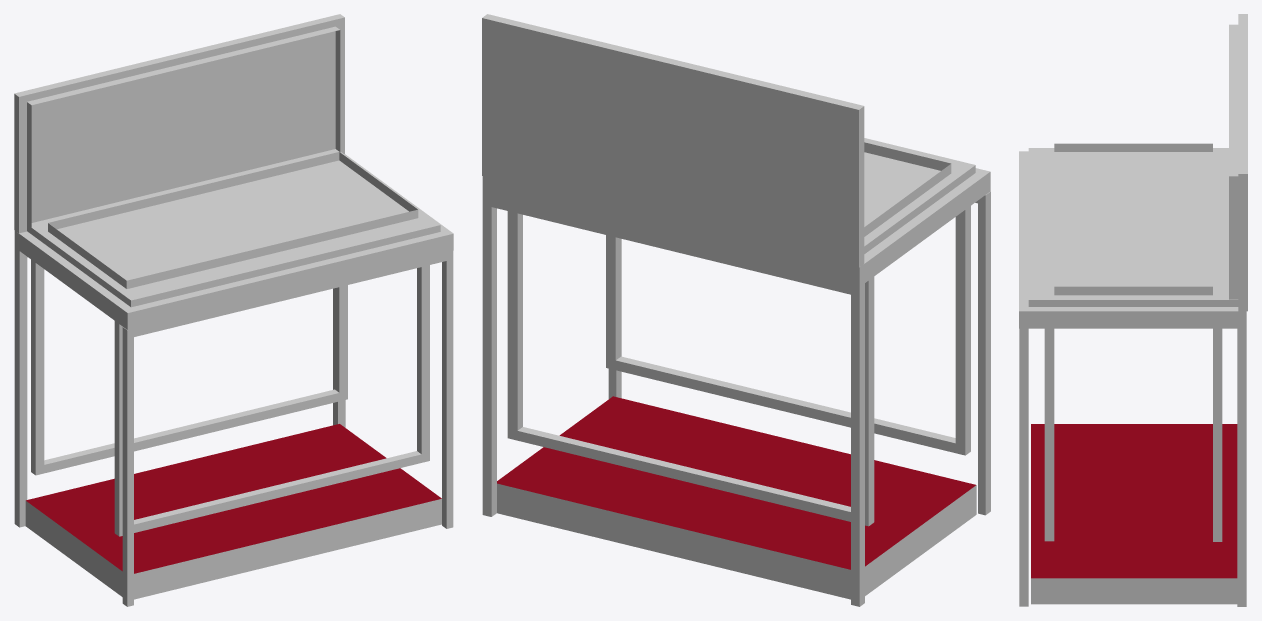
The model's file is Counter_8_Exhibition_Table_Rectangle032_1.FBX.
3 renders of one model, left to right at view 1: azimuth 30°, elevation 25°; view 2: azimuth 150°, elevation 25°; view 3: azimuth 270°, elevation 25°, orthographic. The views are drawn at different scales.
Parts seen in each view (by area): view 1: Counter_8_Exhibition_Table_Rectangle032_1; view 2: Counter_8_Exhibition_Table_Rectangle032_1; view 3: Counter_8_Exhibition_Table_Rectangle032_1.
Part boxes in pixels (x1,y1,x2,y2): Counter_8_Exhibition_Table_Rectangle032_1: (14, 14, 453, 606); Counter_8_Exhibition_Table_Rectangle032_1: (482, 14, 990, 606); Counter_8_Exhibition_Table_Rectangle032_1: (1019, 14, 1247, 606).
Size of the model in its own units: 100 by 126 by 60.37.
